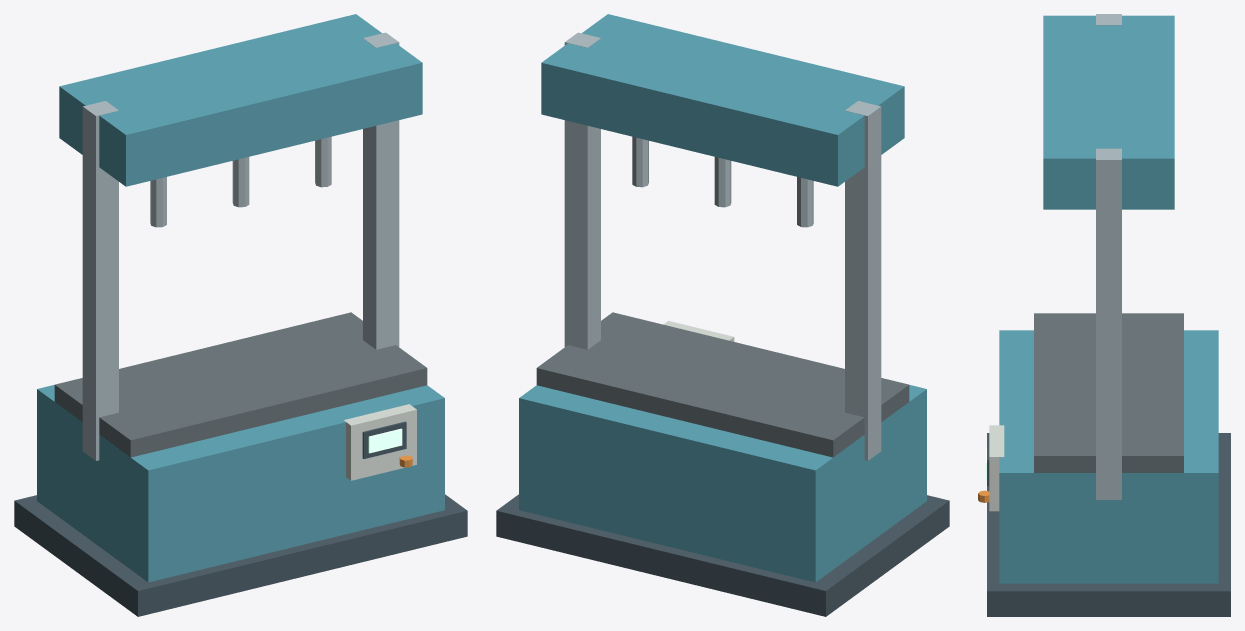
Rendered from liquid-bottling-station.glb.
3 views of the same model, side by side, from view 1: azimuth 30°, elevation 25°; view 2: azimuth 150°, elevation 25°; view 3: azimuth 270°, elevation 25° (orthographic).
Visible parts, largest first — view 1: blue, rubber, steel, dark, cream, light; view 2: blue, rubber, steel, dark; view 3: blue, rubber, dark, steel, cream.
Boxes of the visible parts, box(x1,y1,x2,y2) form: blue: box(37, 14, 444, 582); rubber: box(54, 312, 427, 457); steel: box(82, 32, 399, 460); dark: box(14, 421, 467, 616); cream: box(343, 404, 416, 480); light: box(368, 428, 402, 453); blue: box(519, 14, 926, 582); rubber: box(536, 312, 909, 457); steel: box(564, 32, 881, 460); dark: box(496, 494, 949, 616); blue: box(999, 15, 1218, 583); rubber: box(1034, 313, 1183, 472); dark: box(987, 433, 1230, 616); steel: box(1096, 14, 1121, 499); cream: box(989, 425, 1004, 511).
Size of the model in its own units: 2 by 2.65 by 1.35.
